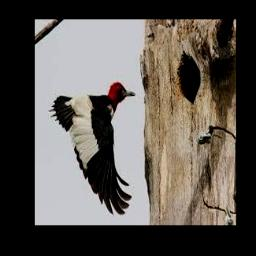Woodpecker: (48, 82, 135, 215)
